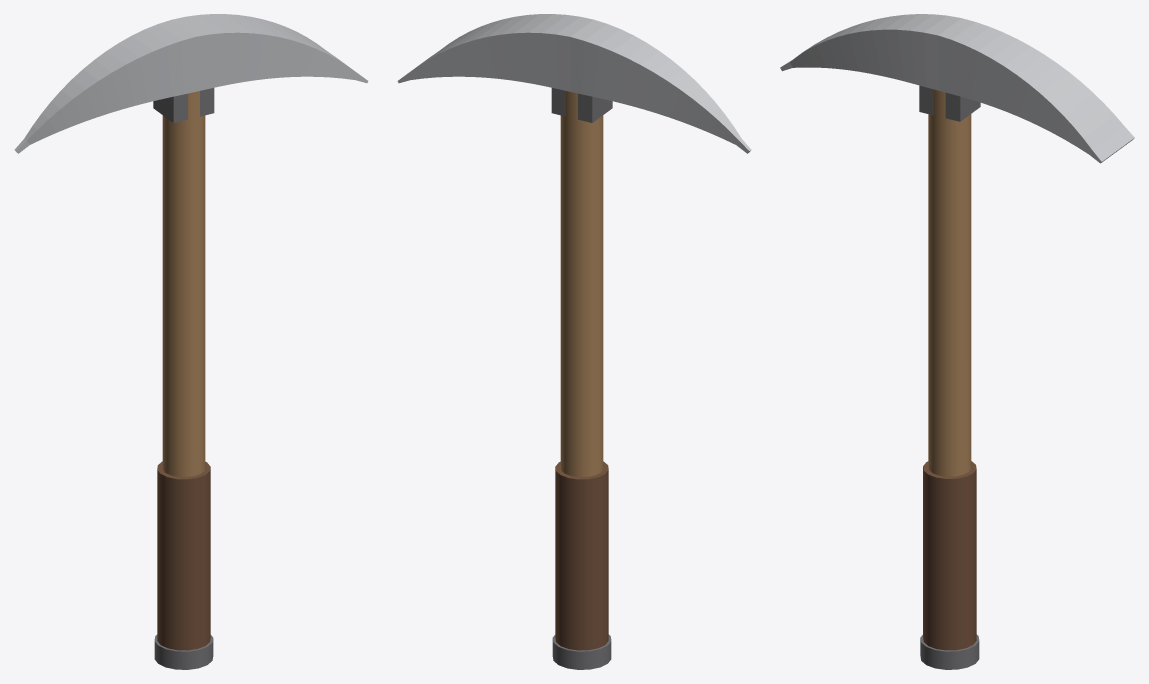
Rendered from pickaxe.glb.
3 renders of one model, left to right at view 1: azimuth 30°, elevation 25°; view 2: azimuth 150°, elevation 25°; view 3: azimuth 330°, elevation 25°, orthographic.
Visible parts, largest first — view 1: Pickaxe; view 2: Pickaxe; view 3: Pickaxe.
Part boxes in pixels (left/top/right/bottom): Pickaxe: left=14, top=14, right=368, bottom=669; Pickaxe: left=397, top=14, right=751, bottom=669; Pickaxe: left=780, top=14, right=1134, bottom=669.
Size of the model in its own units: 0.5764 by 1.03 by 0.098.
